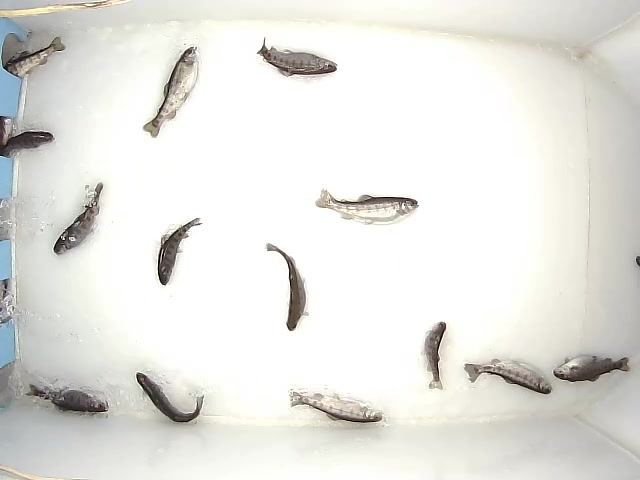fish: (142, 42, 201, 140), (50, 179, 104, 260), (265, 240, 311, 332), (286, 385, 385, 426), (314, 187, 420, 225), (135, 369, 205, 426), (462, 355, 552, 399), (253, 36, 339, 78), (154, 217, 204, 287), (25, 381, 110, 416), (553, 353, 631, 381), (418, 319, 448, 391)
